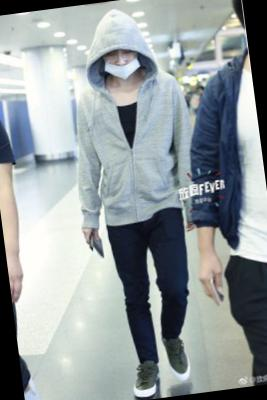mask_weared_incorrect: (101, 45, 142, 83)
